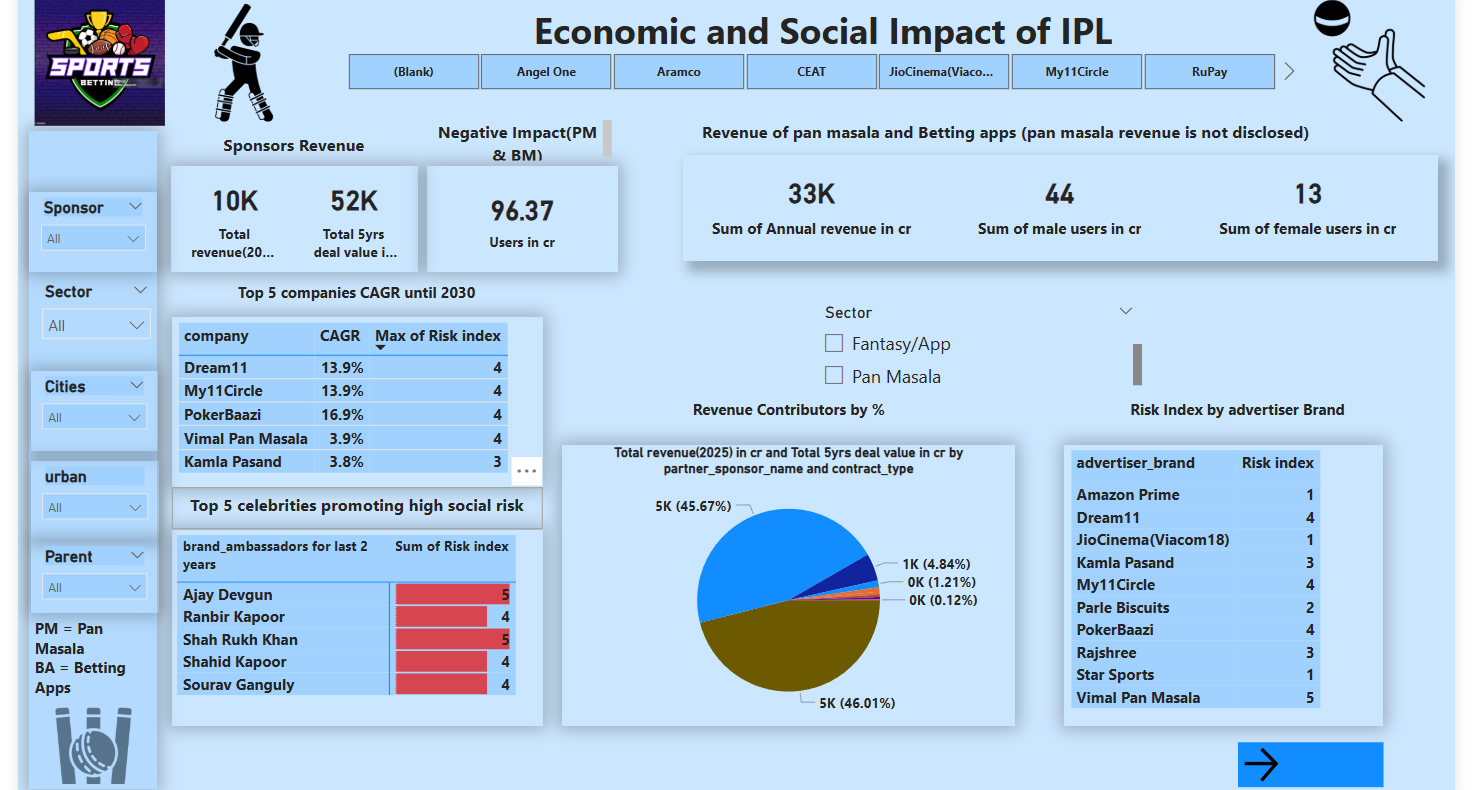

Layout of this report page (visuals, bound fields, positions):
{"tool":"powerbi","page":{"name":"IPL","canvas":[1280,720],"ordinal":0},"visuals":[{"type":"image","box":[135.7,7.1,130,114.3],"z":0},{"type":"image","box":[10,633.8,113.8,77.5],"z":1000},{"type":"image","box":[1143.8,3.8,121.2,117.5],"z":2000},{"type":"image","box":[10,0,126.2,125],"z":3000},{"type":"shape","box":[10,125,113.8,586.2],"z":4000},{"type":"textbox","box":[447.5,7.5,538.8,55],"z":5000},{"type":"cardVisual","fields":{"Data":["fact_ipl_central_contracts.Total revenue(2025) in cr","fact_ipl_central_contracts.Total 5yrs deal value in cr"]},"box":[135.7,155.7,220,94.3],"z":6000},{"type":"tableEx","fields":{"Values":["dim_advertisers.advertiser_brand","dim_advertisers.Risk index"]},"box":[931.4,404.3,284.3,250],"z":7000},{"type":"pieChart","fields":{"Category":["fact_ipl_central_contracts.partner_sponsor_name"],"Y":["fact_ipl_central_contracts.Total revenue(2025) in cr"],"Series":["fact_ipl_central_contracts.contract_type"]},"box":[484.3,404.3,404.3,250],"z":8000},{"type":"tableEx","fields":{"Values":["Merge1.company","Merge1.CAGR","Merge1.Risk index"]},"box":[137.1,290,330,151.4],"z":9000},{"type":"textbox","box":[135.7,254.3,331.4,35.7],"z":10000},{"type":"slicer","fields":{"Values":["fact_ipl_central_contracts.partner_sponsor_name"]},"box":[268.8,48.8,875,45],"z":11000},{"type":"textbox","box":[484.3,358.6,404.3,30],"z":12000},{"type":"textbox","box":[931.4,358.6,308.6,30],"z":13000},{"type":"card","fields":{"Values":["Population.Total Population users(High Risk Brand)"]},"box":[364.3,155.7,170,94.3],"z":14000},{"type":"textbox","box":[364.3,110,170,45.7],"z":15000},{"type":"textbox","box":[10,553.8,113.8,80],"z":16000},{"type":"slicer","fields":{"Values":["dim_contract.partner_sponsor_name"]},"box":[10,178.8,113.8,71.2],"z":17000},{"type":"slicer","fields":{"Values":["Merge1.Cities"]},"box":[11.2,338.8,113.8,71.2],"z":18000},{"type":"slicer","fields":{"Values":["Merge1.urban_population"]},"box":[11.1,418.9,114.4,71.1],"z":19000},{"type":"slicer","fields":{"Values":["Merge1.parent"]},"box":[11.4,490,114.3,64.3],"z":20000},{"type":"pivotTable","fields":{"Rows":["dim_advertisers.brand_ambassadors for last 2 years"],"Values":["fact_ipl_advertisers.Risk index"]},"box":[137.1,480,330,174.3],"z":21000},{"type":"textbox","box":[137.1,441.4,330,38.6],"z":22000},{"type":"cardVisual","fields":{"Data":["Merge1.latest_annual_revenue","Merge1.male users in cr","Merge1.female users in cr"]},"box":[542.9,155.7,672.9,94.3],"z":23000},{"type":"textbox","box":[542.9,110,672.9,35.7],"z":24000},{"type":"textbox","box":[135.7,121.4,220,34.3],"z":25000},{"type":"slicer","fields":{"Values":["dim_contract.Sector"]},"box":[11.4,254.3,117.1,84.3],"z":26000},{"type":"slicer","fields":{"Values":["Population.Sector"]},"box":[705.7,272.9,300,85.7],"z":27000},{"type":"actionButton","title":"IPL2","box":[1086.4,669.4,129.8,40.4],"z":29000}]}

Visuals, with their boxes on the page's 1280x720 design canvas (x1, y1, x2, y2). These are canvas units, not pixel positions in the 1480x790 screenshot, which may show the page scaled, cropped or inside an application window:
image: [136,7,266,121]
image: [10,634,124,711]
image: [1144,4,1265,121]
image: [10,0,136,125]
shape: [10,125,124,711]
textbox: [448,8,986,62]
cardVisual - fact_ipl_central_contracts.Total revenue(2025) in cr x fact_ipl_central_contracts.Total 5yrs deal value in cr: [136,156,356,250]
tableEx - dim_advertisers.advertiser_brand x dim_advertisers.Risk index: [931,404,1216,654]
pieChart - fact_ipl_central_contracts.partner_sponsor_name x fact_ipl_central_contracts.Total revenue(2025) in cr: [484,404,889,654]
tableEx - Merge1.company x Merge1.CAGR: [137,290,467,441]
textbox: [136,254,467,290]
slicer - fact_ipl_central_contracts.partner_sponsor_name: [269,49,1144,94]
textbox: [484,359,889,389]
textbox: [931,359,1240,389]
card - Population.Total Population users(High Risk Brand): [364,156,534,250]
textbox: [364,110,534,156]
textbox: [10,554,124,634]
slicer - dim_contract.partner_sponsor_name: [10,179,124,250]
slicer - Merge1.Cities: [11,339,125,410]
slicer - Merge1.urban_population: [11,419,126,490]
slicer - Merge1.parent: [11,490,126,554]
pivotTable - dim_advertisers.brand_ambassadors for last 2 years x fact_ipl_advertisers.Risk index: [137,480,467,654]
textbox: [137,441,467,480]
cardVisual - Merge1.latest_annual_revenue x Merge1.male users in cr: [543,156,1216,250]
textbox: [543,110,1216,146]
textbox: [136,121,356,156]
slicer - dim_contract.Sector: [11,254,128,339]
slicer - Population.Sector: [706,273,1006,359]
"IPL2" actionButton: [1086,669,1216,710]
